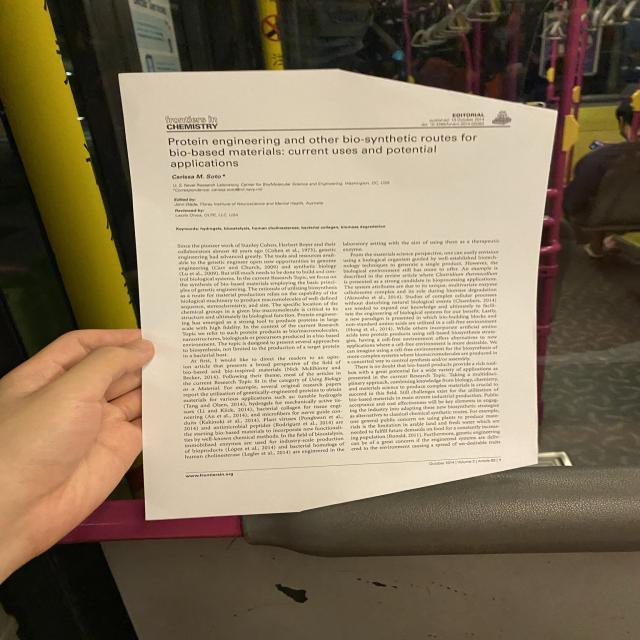document: (120, 70, 555, 519)
